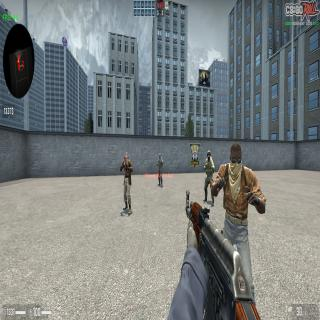CT-Body: (203, 158, 215, 207), (156, 158, 164, 187)
CT-Head: (207, 150, 211, 162), (159, 153, 161, 159)
T-Body: (212, 163, 268, 311), (120, 159, 133, 215)
T-Head: (229, 142, 243, 179)
